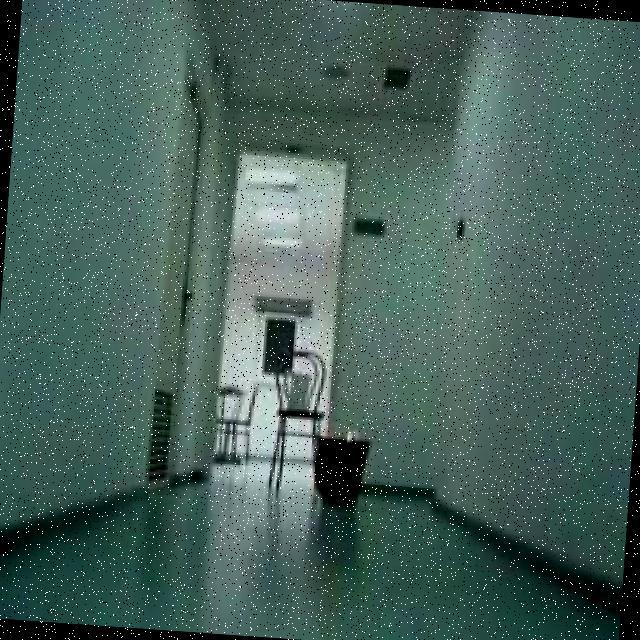Fire: (348, 423, 365, 442)
